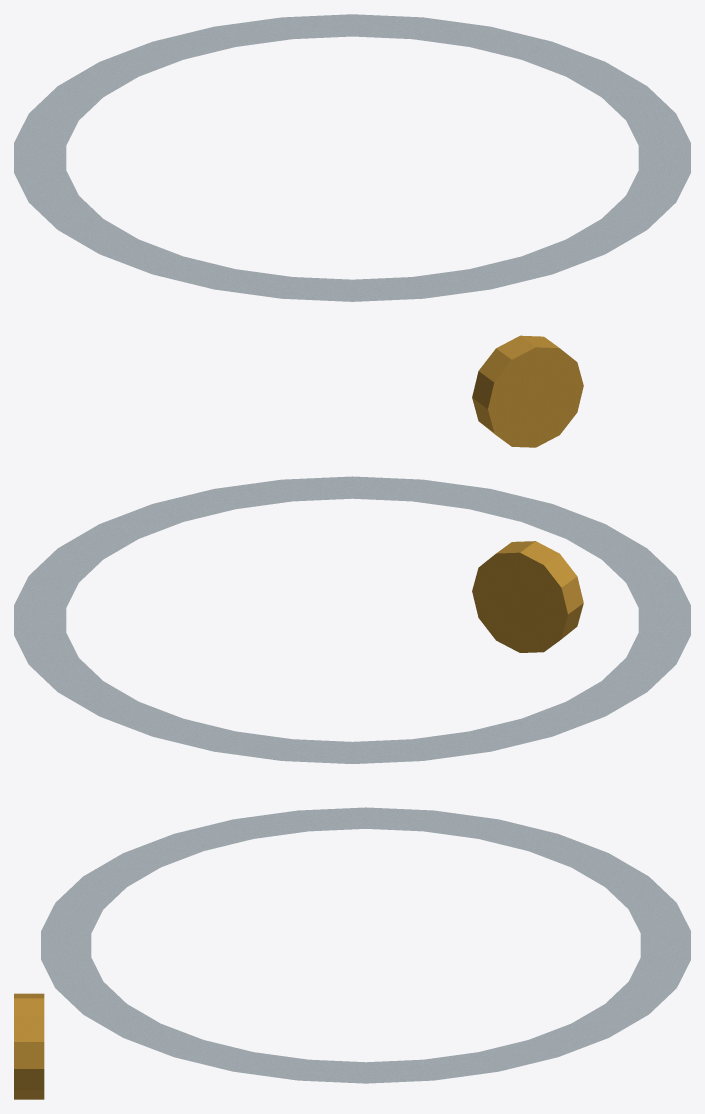
Rendered from reference_simple_necklace.gltf.
3 views of the same model, one above another, from view 1: azimuth 30°, elevation 25°; view 2: azimuth 150°, elevation 25°; view 3: azimuth 270°, elevation 25° (orthographic). The views are drawn at different scales.
Visible parts, largest first — view 1: Simple Necklace; view 2: Simple Necklace; view 3: Simple Necklace.
Part boxes in pixels (left/top/right/bottom): Simple Necklace: left=14, top=14, right=690, bottom=447; Simple Necklace: left=14, top=476, right=690, bottom=763; Simple Necklace: left=14, top=807, right=690, bottom=1099.
Size of the model in its own units: 0.258 by 0.065 by 0.2673.
Materials: 2 (2 with a texture image).
